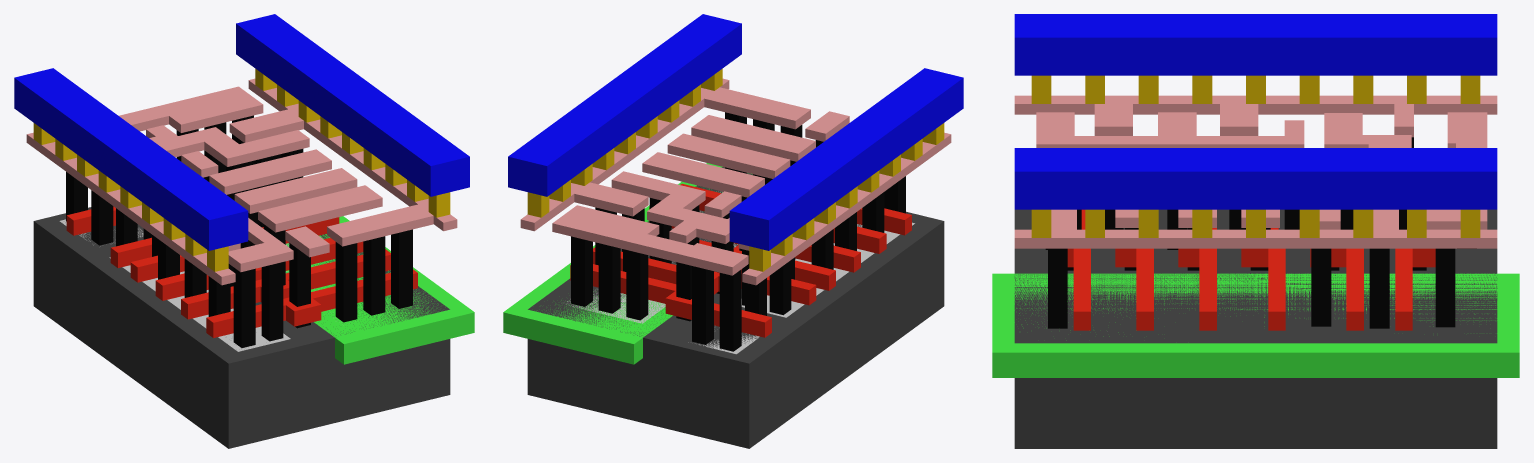
File: sky130_fd_sc_hd__o41a_1.obj
The picture shows the model from 3 angles, left to right: view 1: azimuth 30°, elevation 25°; view 2: azimuth 150°, elevation 25°; view 3: azimuth 270°, elevation 25°; orthographic projection. The views are drawn at different scales.
Visible parts, largest first — view 1: subs, metal1, li, licon, poly, nwell, mcon, diff; view 2: subs, metal1, li, licon, poly, nwell, mcon, diff, tap; view 3: subs, metal1, li, nwell, poly, mcon, licon.
Boxes of the visible parts, bbox=[...] form: subs: bbox=[33, 207, 450, 448]; metal1: bbox=[14, 14, 469, 250]; li: bbox=[26, 78, 457, 285]; licon: bbox=[66, 115, 412, 347]; poly: bbox=[66, 206, 417, 337]; nwell: bbox=[285, 216, 474, 364]; mcon: bbox=[33, 68, 450, 271]; diff: bbox=[59, 219, 290, 351]; subs: bbox=[527, 167, 944, 448]; metal1: bbox=[508, 14, 963, 250]; li: bbox=[520, 78, 951, 285]; licon: bbox=[571, 112, 905, 351]; poly: bbox=[570, 183, 911, 337]; nwell: bbox=[503, 163, 752, 364]; mcon: bbox=[527, 68, 944, 271]; diff: bbox=[688, 222, 914, 354]; tap: bbox=[566, 191, 737, 323]; subs: bbox=[1014, 209, 1497, 448]; metal1: bbox=[1014, 14, 1497, 209]; li: bbox=[1014, 95, 1497, 248]; nwell: bbox=[992, 273, 1519, 377]; poly: bbox=[1067, 209, 1435, 330]; mcon: bbox=[1031, 75, 1480, 237]; licon: bbox=[1045, 137, 1476, 328].
Bounding box in the file's own units: 3.2 × 2.74 × 4.52.
